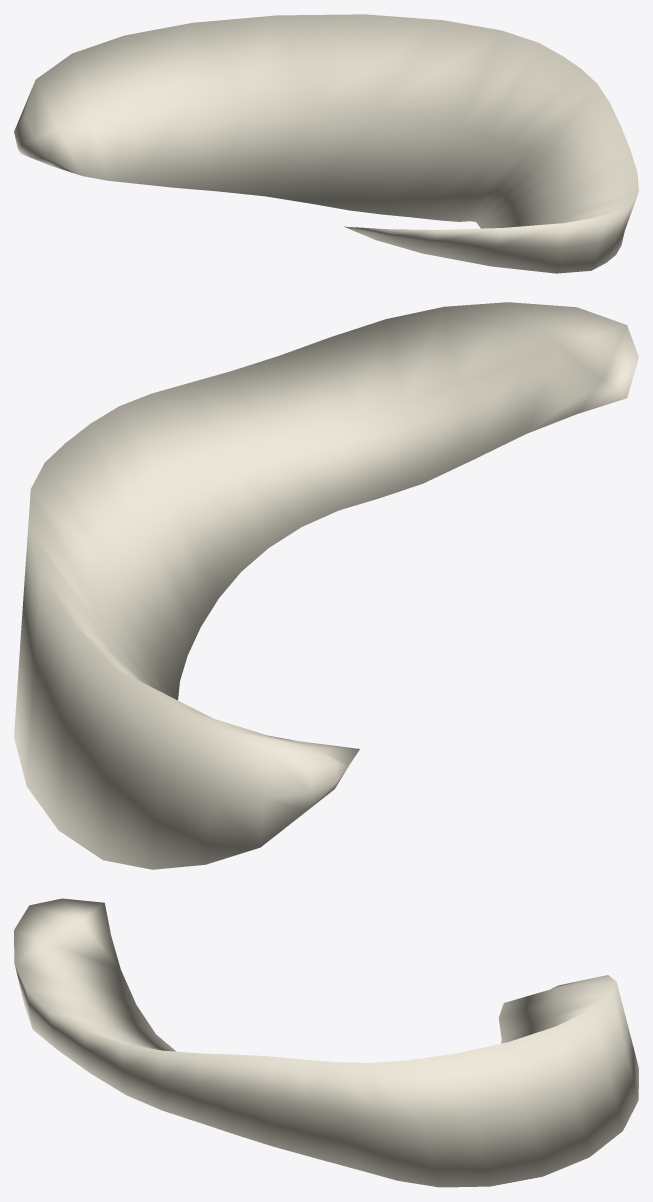
3 views of the same model, one above another, from view 1: azimuth 30°, elevation 25°; view 2: azimuth 150°, elevation 25°; view 3: azimuth 270°, elevation 25° (orthographic). The views are drawn at different scales.
Parts seen in each view (by area): view 1: ZA_0dd9fdff38f4ae10; view 2: ZA_0dd9fdff38f4ae10; view 3: ZA_0dd9fdff38f4ae10.
Part boxes in pixels (<box>): ZA_0dd9fdff38f4ae10: <box>14,14,638,273</box>; ZA_0dd9fdff38f4ae10: <box>14,302,638,869</box>; ZA_0dd9fdff38f4ae10: <box>14,898,638,1187</box>.
Bounding box in the file's own units: 0.0258 × 0.0149 × 0.0447.
